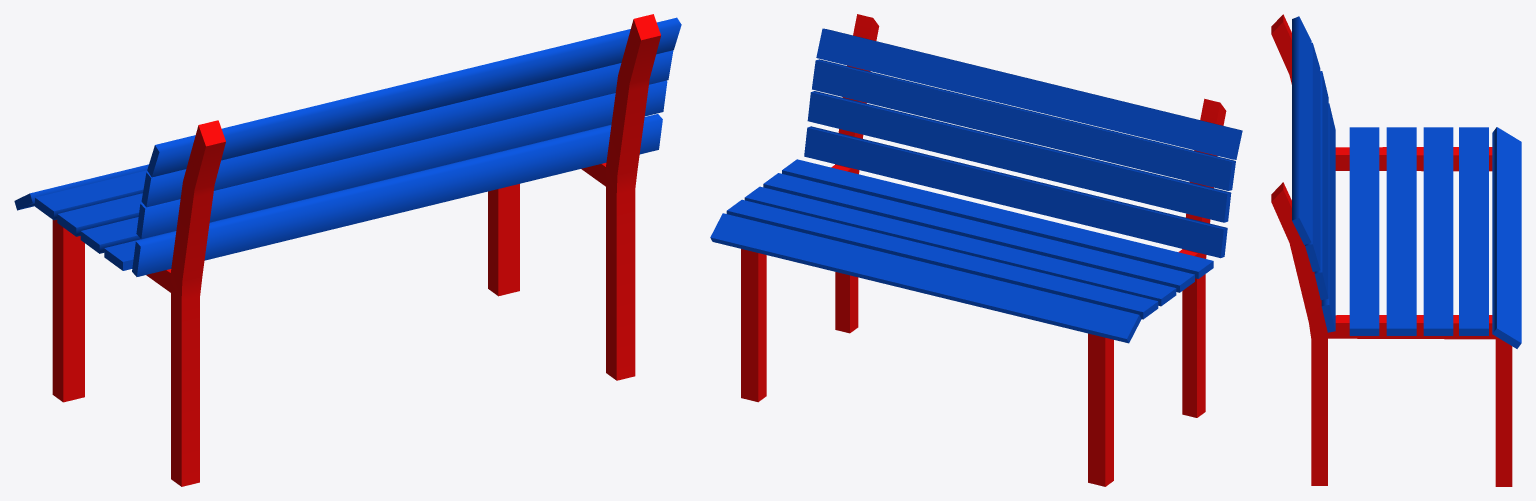
File: bench_00.fbx
3 renders of one model, left to right at view 1: azimuth 30°, elevation 25°; view 2: azimuth 150°, elevation 25°; view 3: azimuth 270°, elevation 25°, orthographic. The views are drawn at different scales.
Parts seen in each view (by area): view 1: Box002, Box001; view 2: Box002, Box001; view 3: Box002, Box001.
Boxes of the visible parts, x1,y1,x2,y2 form: Box002: [14, 17, 681, 276]; Box001: [52, 14, 660, 486]; Box002: [710, 28, 1242, 343]; Box001: [741, 14, 1226, 486]; Box002: [1292, 16, 1521, 348]; Box001: [1271, 14, 1512, 486].
Bounding box in the file's own units: 47.24 × 24.8 × 32.47.
